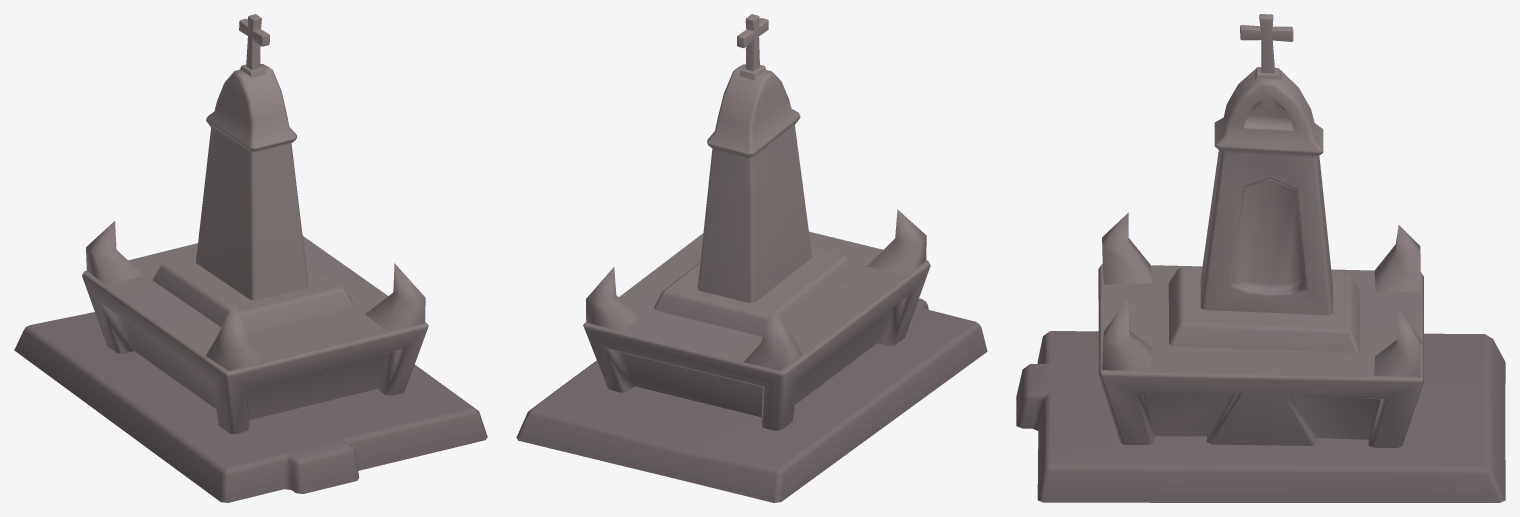
File: tombstone02.glb
3 renders of one model, left to right at view 1: azimuth 30°, elevation 25°; view 2: azimuth 150°, elevation 25°; view 3: azimuth 270°, elevation 25°, orthographic. The views are drawn at different scales.
Parts seen in each view (by area): view 1: Tombstone.02; view 2: Tombstone.02; view 3: Tombstone.02.
Boxes of the visible parts, x1,y1,x2,y2 form: Tombstone.02: (14,14,487,502); Tombstone.02: (516,14,987,502); Tombstone.02: (1016,14,1505,502).
Bounding box in the file's own units: 2.33 × 3.15 × 3.36.
1 material, 1 textured.
